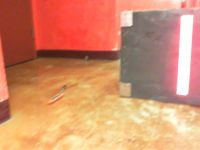switch: (176, 15, 193, 96)
